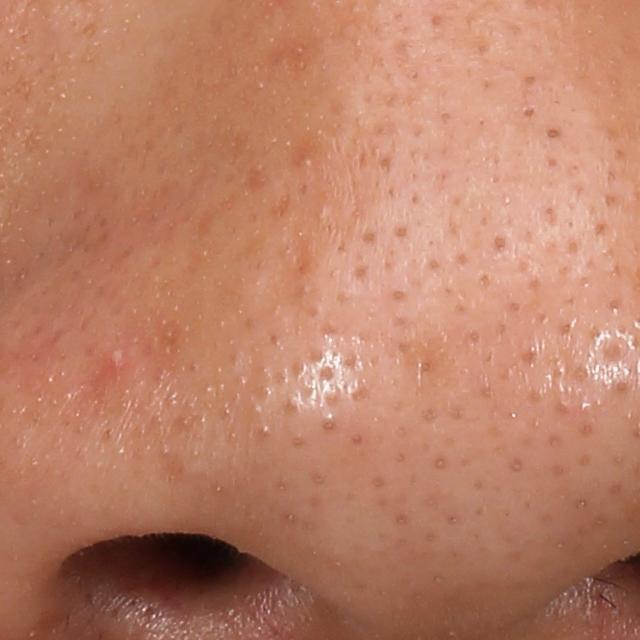comedo: (542, 121, 570, 145), (516, 101, 544, 125), (297, 153, 315, 172)
